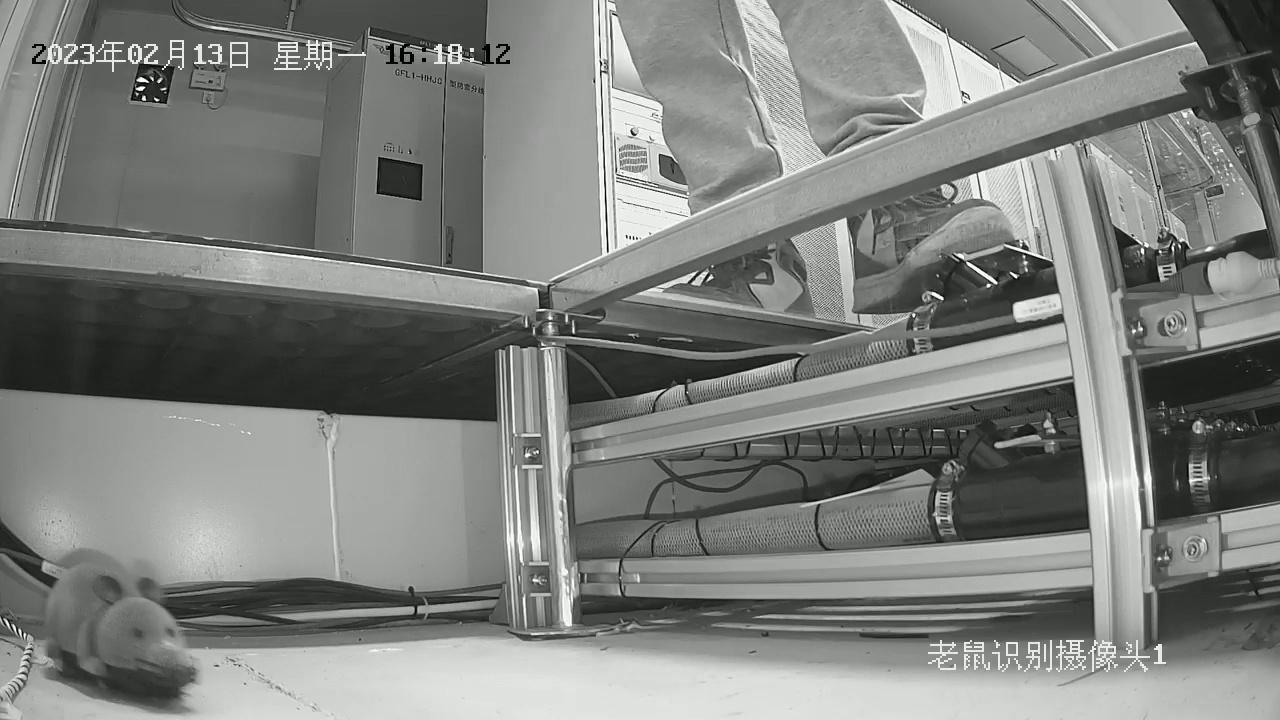rat: (43, 561, 197, 698)
